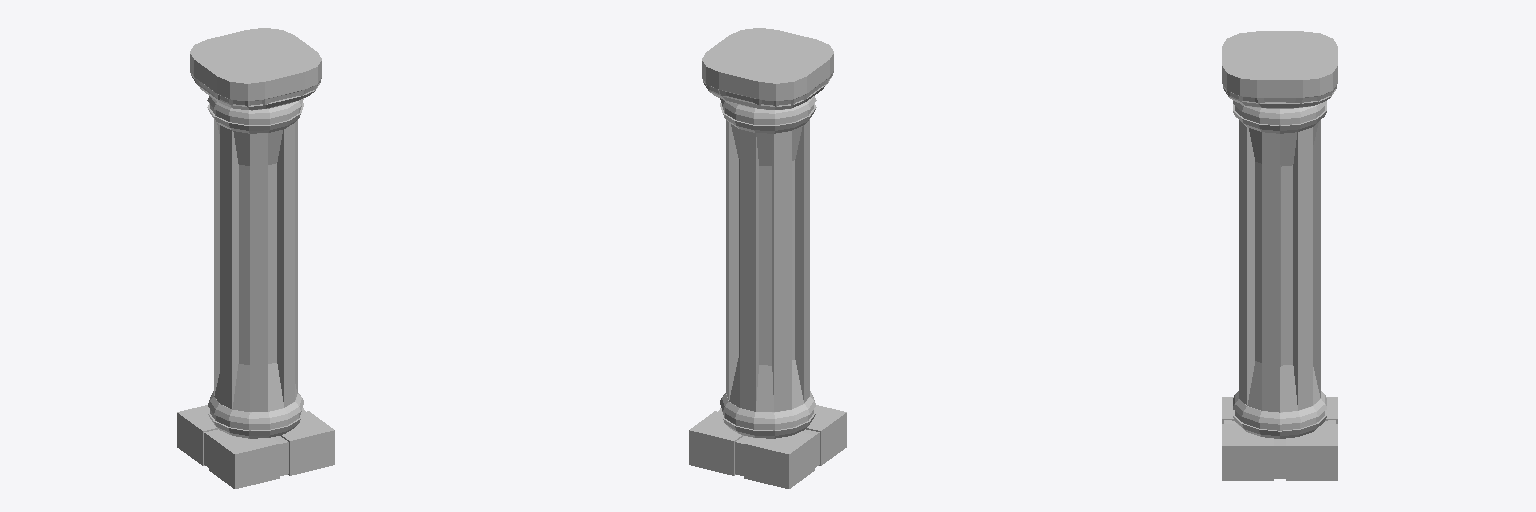
The picture shows the model from 3 angles: view 1: azimuth 30°, elevation 25°; view 2: azimuth 150°, elevation 25°; view 3: azimuth 270°, elevation 25°; orthographic projection.
Parts seen in each view (by area): view 1: pCylinder4_Metaltexture01_0, pCylinder4_Blue_neon_0; view 2: pCylinder4_Metaltexture01_0, pCylinder4_Blue_neon_0; view 3: pCylinder4_Metaltexture01_0, pCylinder4_Blue_neon_0.
Boxes of the visible parts, <box> form: pCylinder4_Metaltexture01_0: <box>177,28,334,488</box>; pCylinder4_Blue_neon_0: <box>192,74,319,475</box>; pCylinder4_Metaltexture01_0: <box>689,28,846,488</box>; pCylinder4_Blue_neon_0: <box>704,74,831,475</box>; pCylinder4_Metaltexture01_0: <box>1222,31,1337,480</box>; pCylinder4_Blue_neon_0: <box>1224,87,1335,478</box>.
Size of the model in its own units: 1.5 by 5.73 by 1.5.